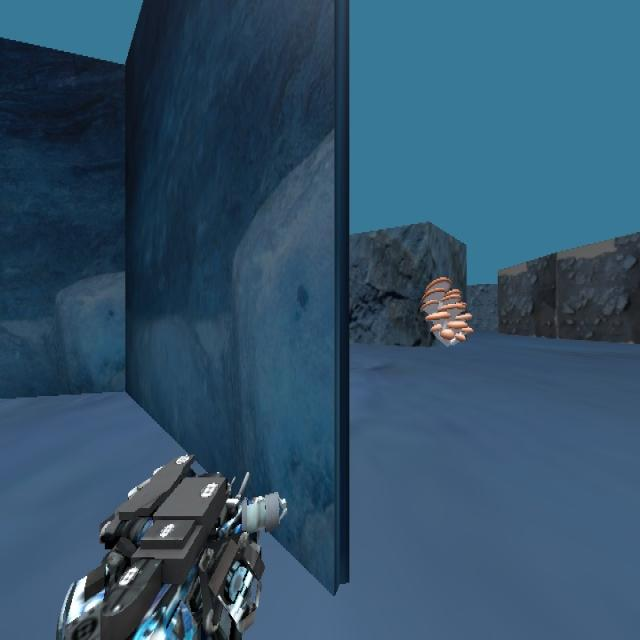Mushroom: (419, 275, 473, 345)
